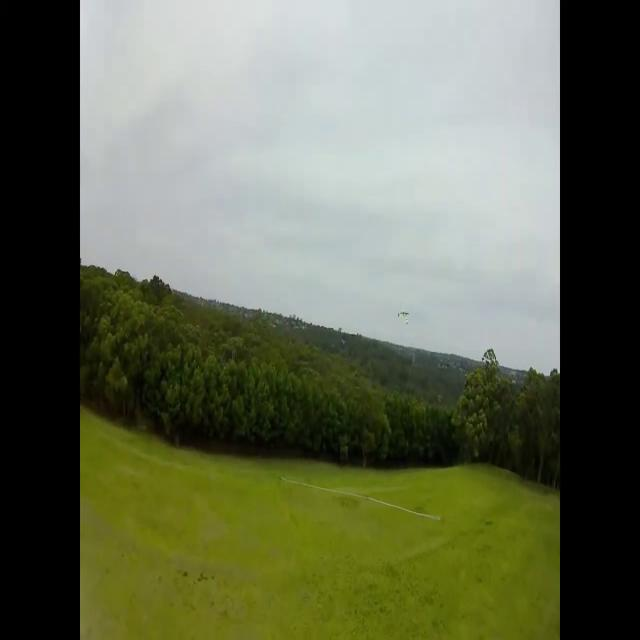iha: (400, 309, 406, 324)
